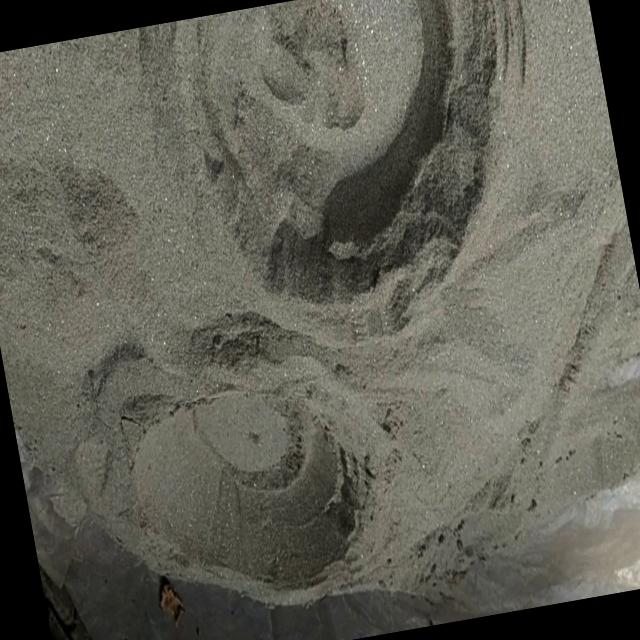C20: (187, 0, 510, 336), (129, 393, 363, 589)
